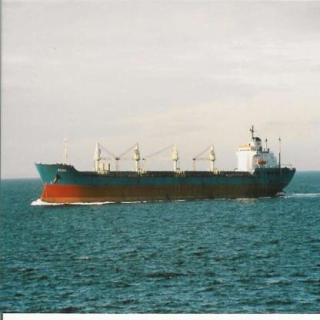Bulk Carrier: (23, 130, 291, 205)
